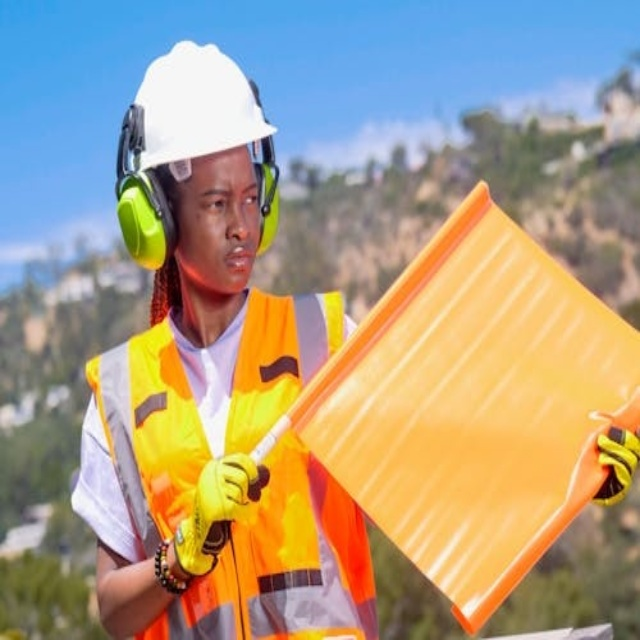Guantes: (174, 452, 268, 577), (590, 422, 639, 506)
Sin_gafas: (182, 176, 264, 224)
Sin_mascara: (207, 242, 261, 287)
